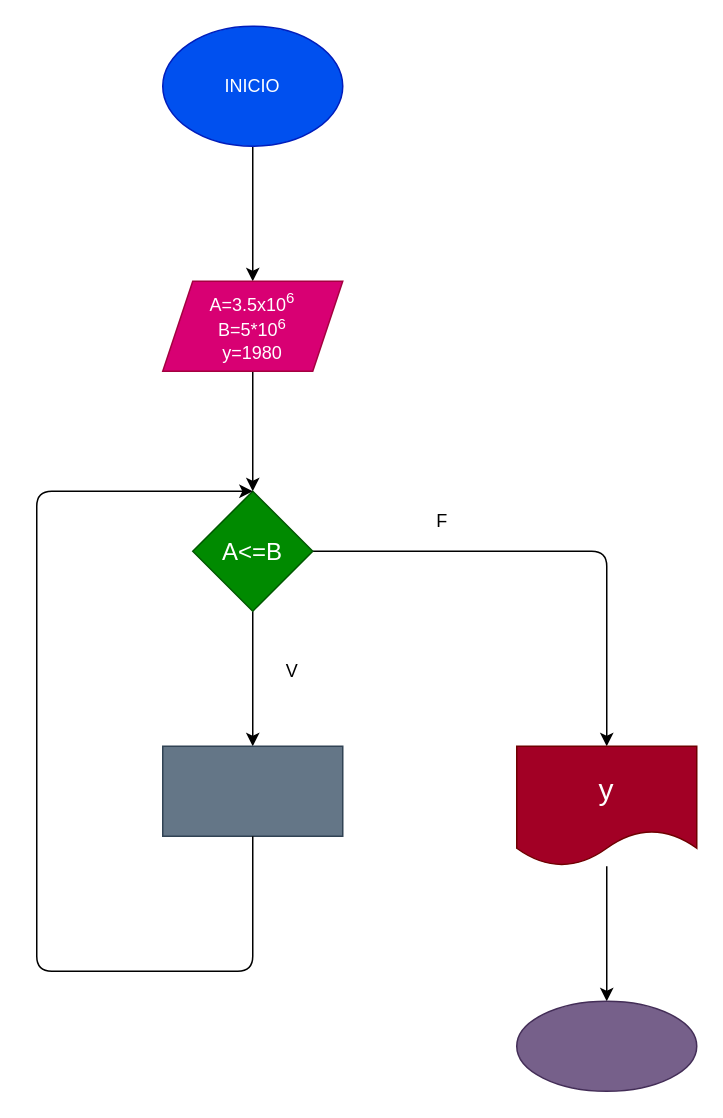
Some shapes in this 723 by 1118 pixel diagram are drawn without their labels. The shapes that lost their labels are listed below. From the top down, each one's centre as x and y in pixels, then its label:
[252,790]: A=(A*0.007) B=(A*0.05) y=y+1
[606,1045]: FIN
